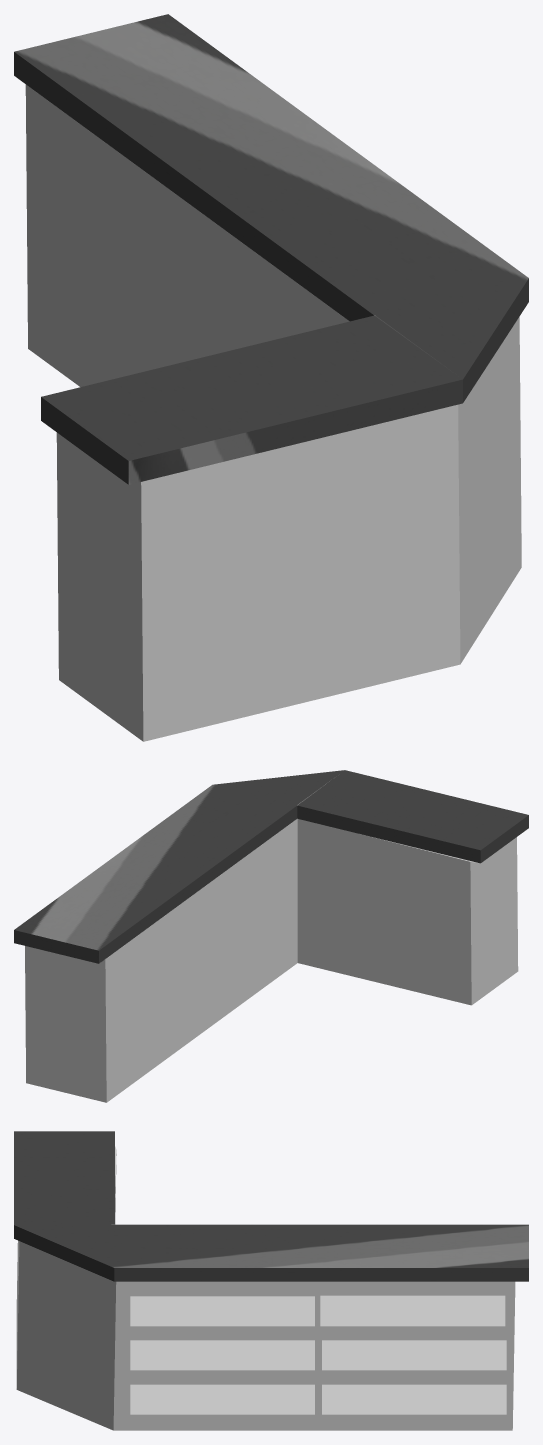
The model's file is counter.fbx.
The picture shows the model from 3 angles, top to bottom: view 1: azimuth 30°, elevation 25°; view 2: azimuth 150°, elevation 25°; view 3: azimuth 270°, elevation 25°; orthographic projection. The views are drawn at different scales.
Visible parts, largest first — view 1: Cube; view 2: Cube; view 3: Cube.
Boxes of the visible parts, left/top/right/bottom form: Cube: left=14, top=14, right=528, bottom=741; Cube: left=14, top=770, right=528, bottom=1102; Cube: left=14, top=1131, right=528, bottom=1430.
Bounding box in the file's own units: 171 × 96.26 × 273.
